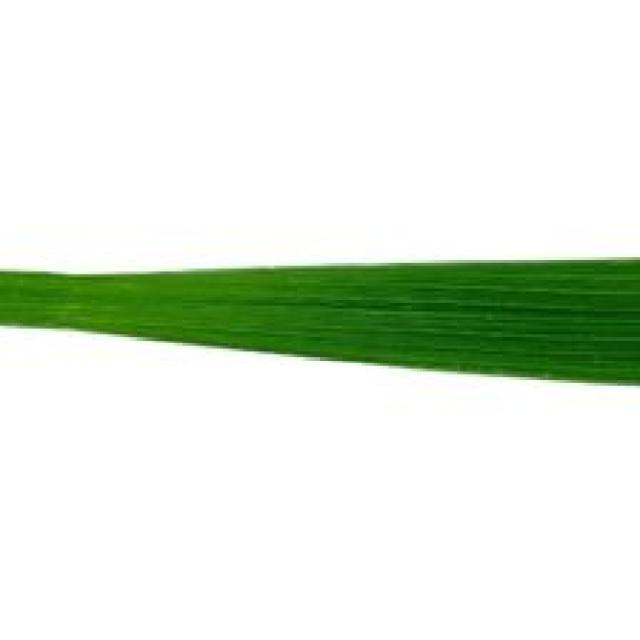Rice___Healthy_Rice_Plant: (0, 258, 637, 389)
